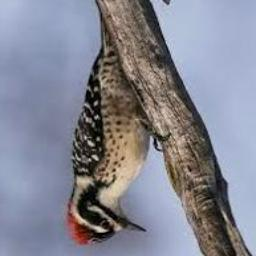Woodpecker: (64, 16, 170, 245)
